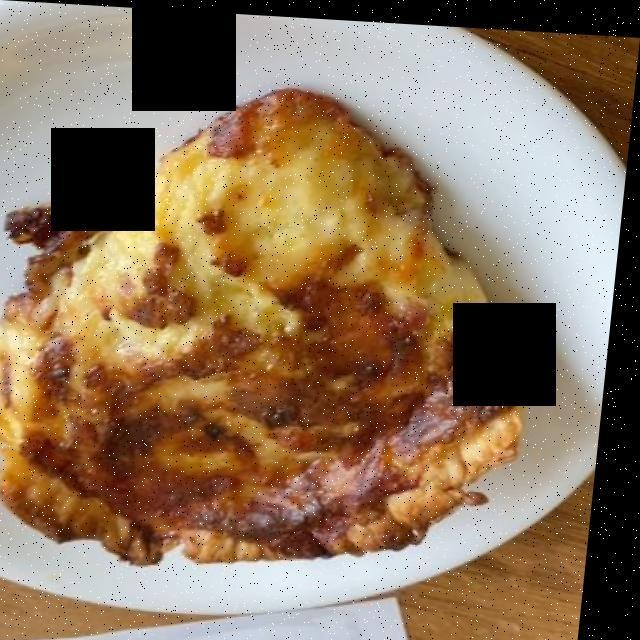quiche: (0, 93, 537, 561)
